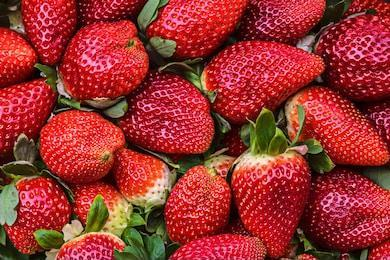Fresa: (197, 35, 330, 127), (228, 136, 314, 260), (112, 64, 221, 161), (281, 79, 390, 170), (57, 16, 152, 107), (31, 101, 128, 188), (300, 163, 390, 255), (141, 1, 255, 62), (2, 169, 78, 257), (164, 162, 236, 250), (1, 73, 58, 164), (109, 142, 175, 211), (70, 176, 133, 240)
